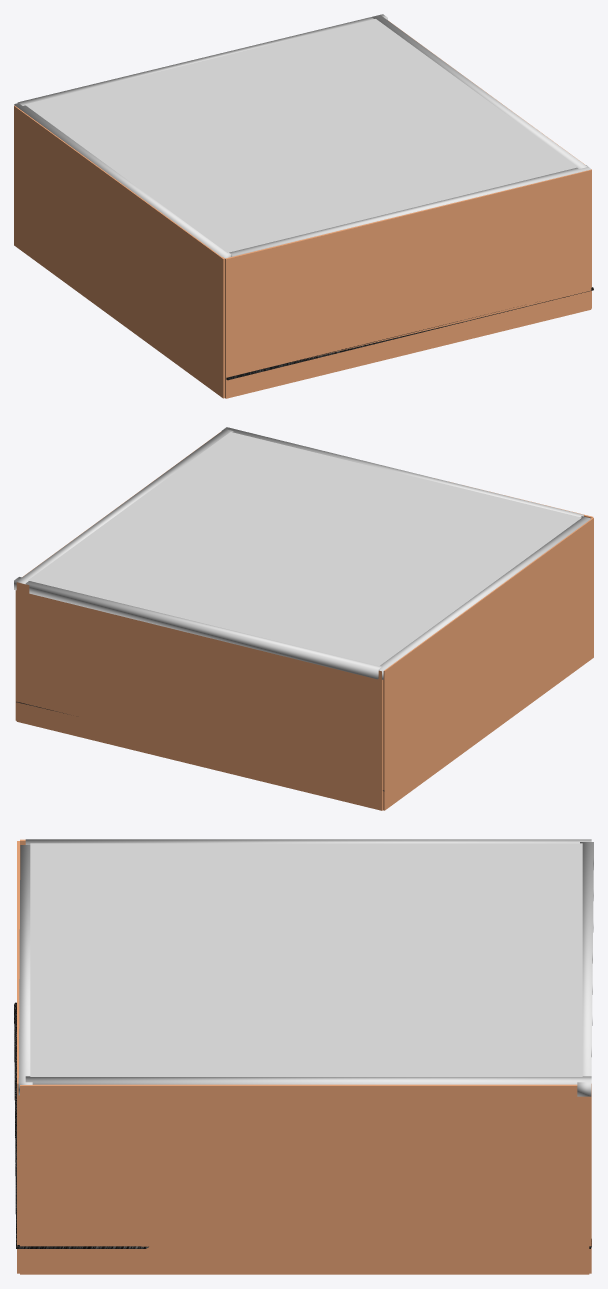
File: GymRoom (1).fbx
3 renders of one model, top to bottom at view 1: azimuth 30°, elevation 25°; view 2: azimuth 150°, elevation 25°; view 3: azimuth 270°, elevation 25°, orthographic. The views are drawn at different scales.
Visible parts, largest first — view 1: Floor, Plane, Cube Lamp.002, Cube Lamp, Cube Lamp.003, Cube Lamp.001, Blanket; view 2: Floor, Plane, Cube Lamp.001, Cube Lamp, Cube Lamp.003, Cube Lamp.002; view 3: Plane, Floor, Cube Lamp.003, Cube Lamp.001, Cube Lamp, Cube Lamp.002, Blanket.
Part boxes in pixels (bbox=[...]): Floor: bbox=[14, 20, 591, 398]; Plane: bbox=[24, 19, 578, 252]; Cube Lamp.002: bbox=[229, 165, 590, 256]; Cube Lamp: bbox=[14, 103, 230, 258]; Cube Lamp.003: bbox=[372, 15, 587, 168]; Cube Lamp.001: bbox=[17, 14, 387, 105]; Blanket: bbox=[226, 287, 593, 380]; Floor: bbox=[15, 432, 593, 810]; Plane: bbox=[28, 432, 581, 665]; Cube Lamp.001: bbox=[14, 577, 382, 679]; Cube Lamp: bbox=[378, 516, 590, 679]; Cube Lamp.003: bbox=[16, 429, 233, 584]; Cube Lamp.002: bbox=[222, 427, 583, 517]; Plane: bbox=[30, 843, 582, 1076]; Floor: bbox=[17, 839, 591, 1274]; Cube Lamp.003: bbox=[25, 1076, 591, 1084]; Cube Lamp.001: bbox=[577, 842, 593, 1096]; Cube Lamp: bbox=[25, 839, 591, 844]; Cube Lamp.002: bbox=[18, 845, 32, 1095]; Blanket: bbox=[14, 1002, 591, 1248].
Size of the model in its own units: 1680 by 611 by 1676.
30 materials, 20 textured.
